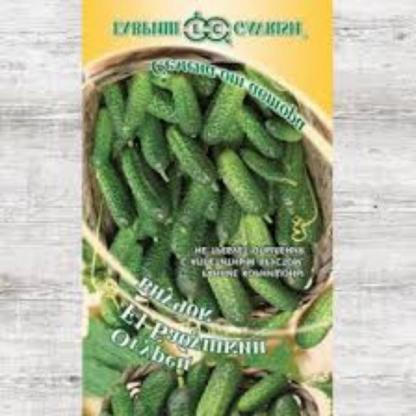cucumber: (92, 71, 340, 311), (92, 325, 326, 416)
